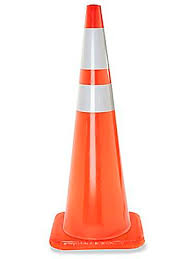cones: (48, 4, 145, 251)
